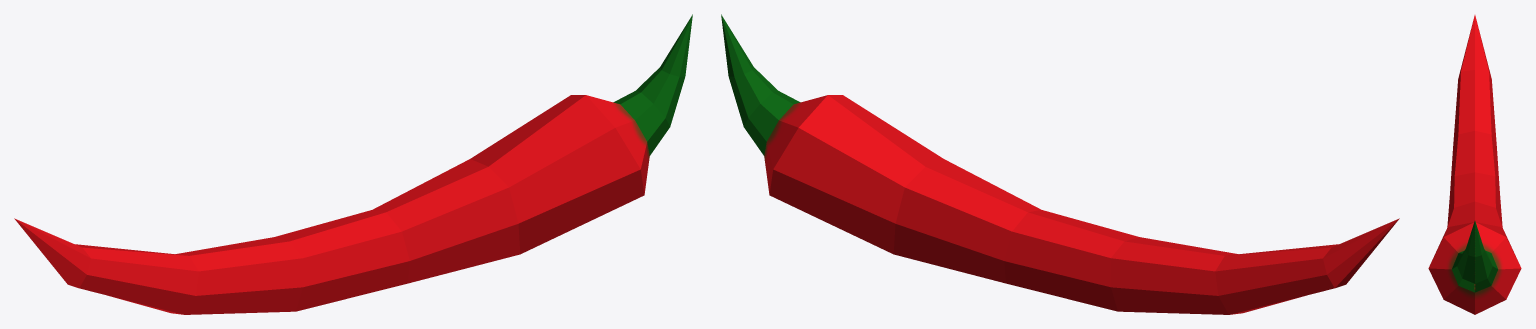
Rendered from Chillishote_01.fbx.
3 views of the same model, side by side, from view 1: azimuth 30°, elevation 25°; view 2: azimuth 150°, elevation 25°; view 3: azimuth 270°, elevation 25° (orthographic). The views are drawn at different scales.
Visible parts, largest first — view 1: Cube; view 2: Cube; view 3: Cube.
Part boxes in pixels (x1=…): Cube: x1=14, y1=14, x2=692, y2=314; Cube: x1=721, y1=14, x2=1399, y2=314; Cube: x1=1428, y1=15, x2=1521, y2=314.
Bounding box in the file's own units: 11.85 × 3.24 × 2.
Materials: 1 (1 with a texture image).
